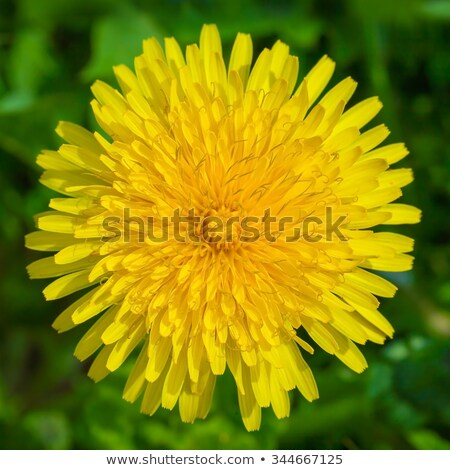dandelion: (46, 68, 423, 436)
